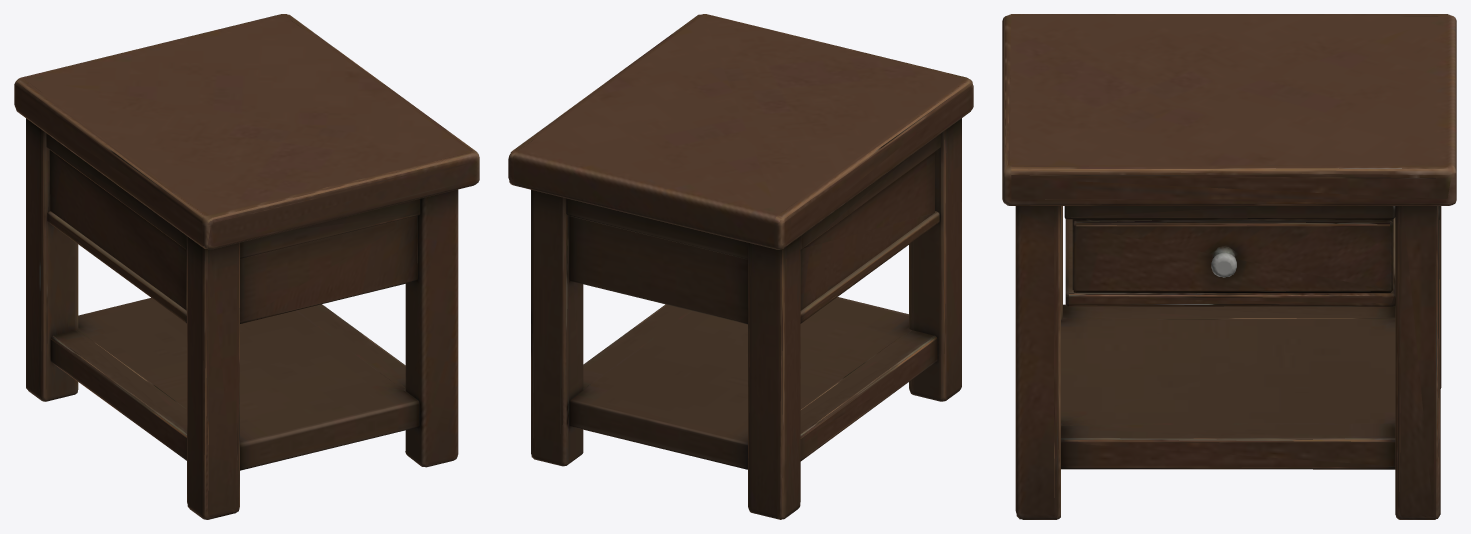
The model's file is endTable.glb.
3 views of the same model, side by side, from view 1: azimuth 30°, elevation 25°; view 2: azimuth 150°, elevation 25°; view 3: azimuth 270°, elevation 25° (orthographic). The views are drawn at different scales.
Parts seen in each view (by area): view 1: tripo_node_a5946041-4a54-4ef1-9d04-bd370a44f54b; view 2: tripo_node_a5946041-4a54-4ef1-9d04-bd370a44f54b; view 3: tripo_node_a5946041-4a54-4ef1-9d04-bd370a44f54b.
Part boxes in pixels (box(x1,y1,x2,y2)): tripo_node_a5946041-4a54-4ef1-9d04-bd370a44f54b: box(14, 14, 479, 519); tripo_node_a5946041-4a54-4ef1-9d04-bd370a44f54b: box(508, 14, 973, 519); tripo_node_a5946041-4a54-4ef1-9d04-bd370a44f54b: box(1002, 14, 1456, 519).
Bounding box in the file's own units: 0.8184 × 0.877 × 0.998.
1 material, 1 textured.
